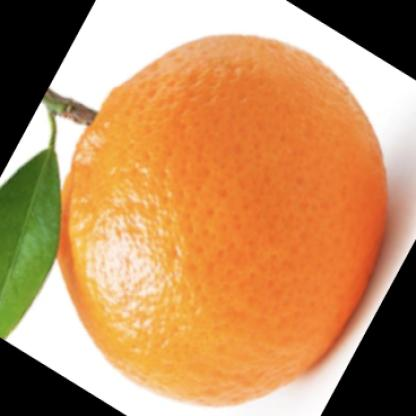fresh: (54, 35, 390, 409)
